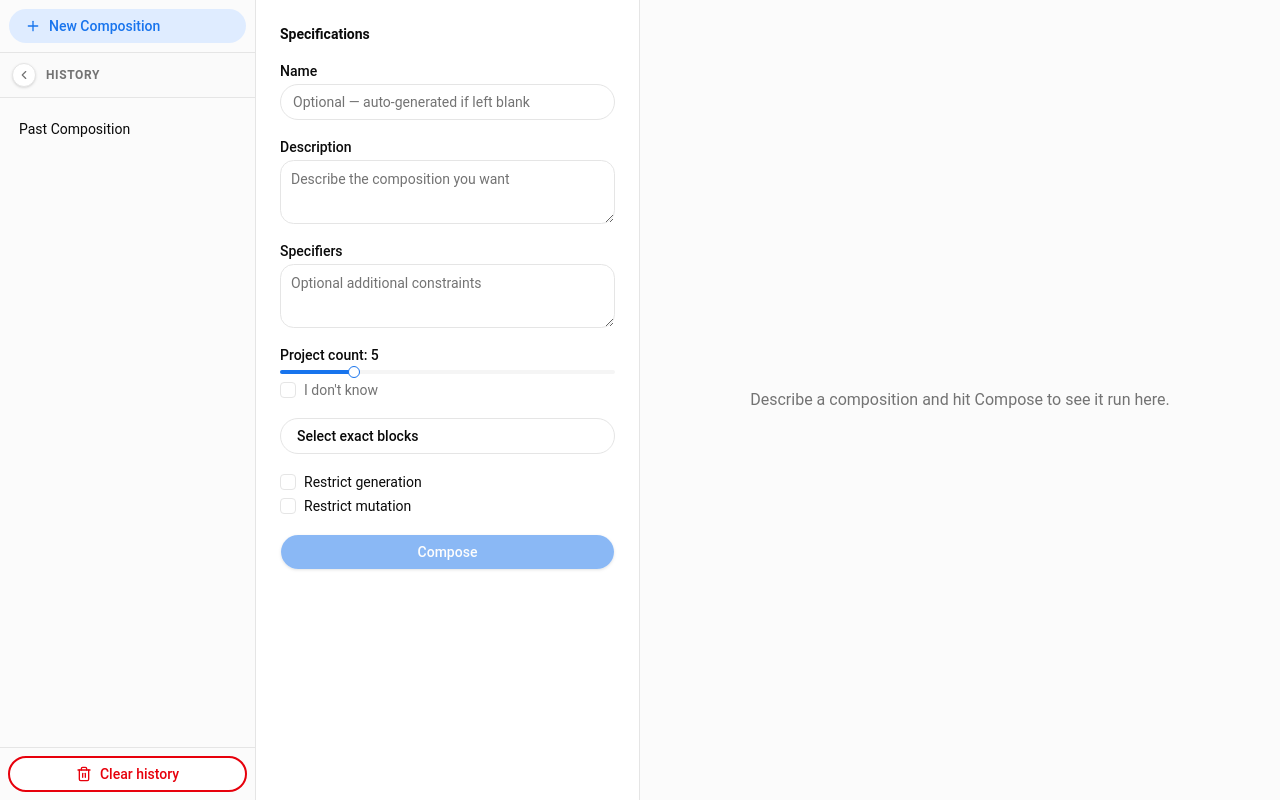
deleting the currently-viewed history entry returns the result panel to the idle/fresh view
The image size is (1280, 800).
Click the button "Past Composition" at {"x": 96, "y": 129}, box [19,119,174,139]
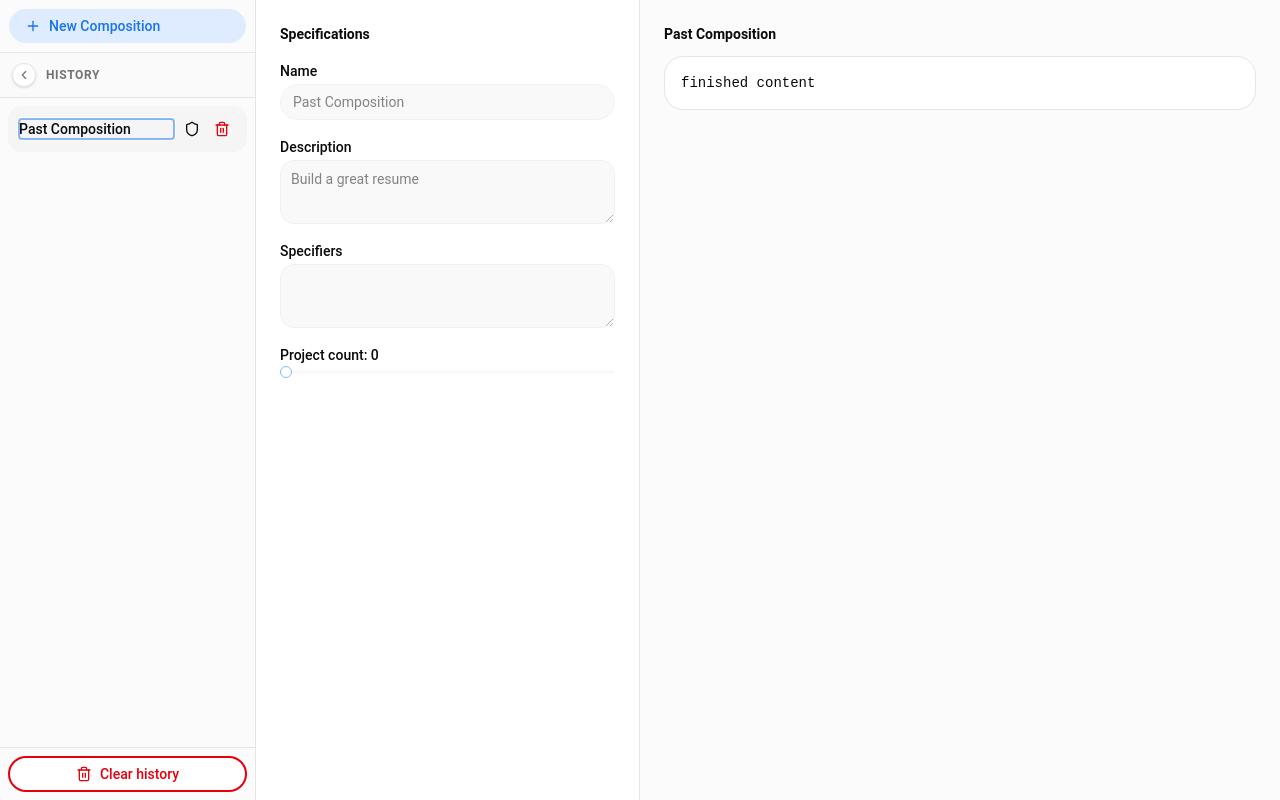
Expected: the element with test id "result-panel-history" is shown, [640,0,1279,134]
Click the button named "Delete" at {"x": 222, "y": 129}, box [208,115,236,143]
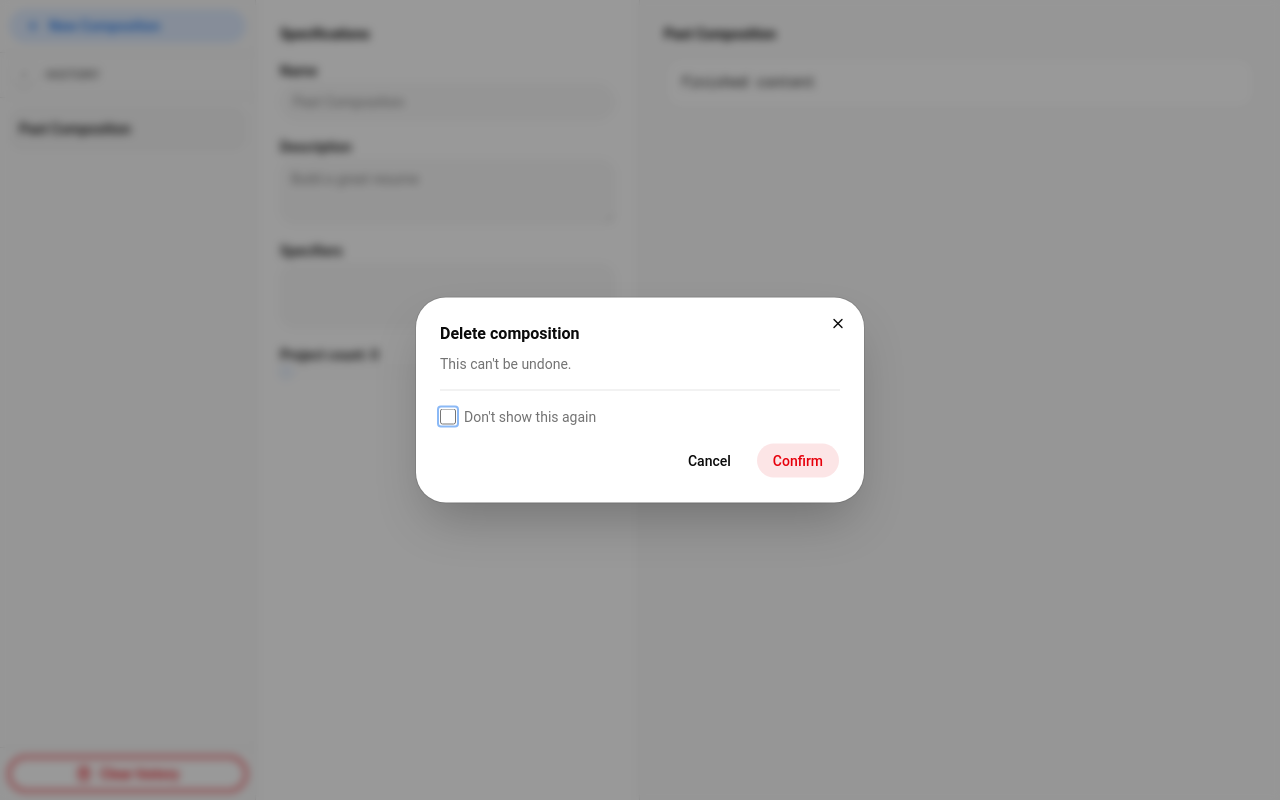
Click the checkbox at {"x": 448, "y": 416}, box [440,408,456,424]
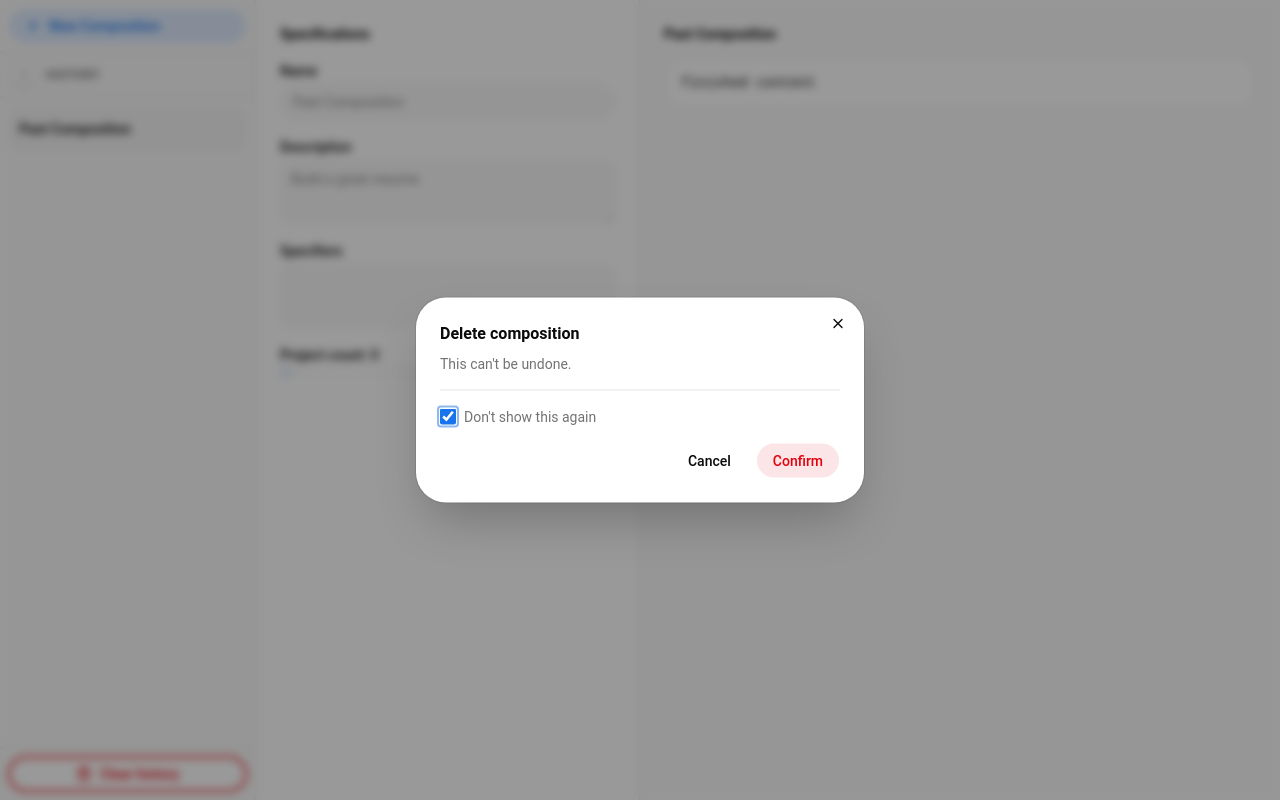
Click the button "Confirm" at {"x": 798, "y": 460}, box [756,442,840,478]
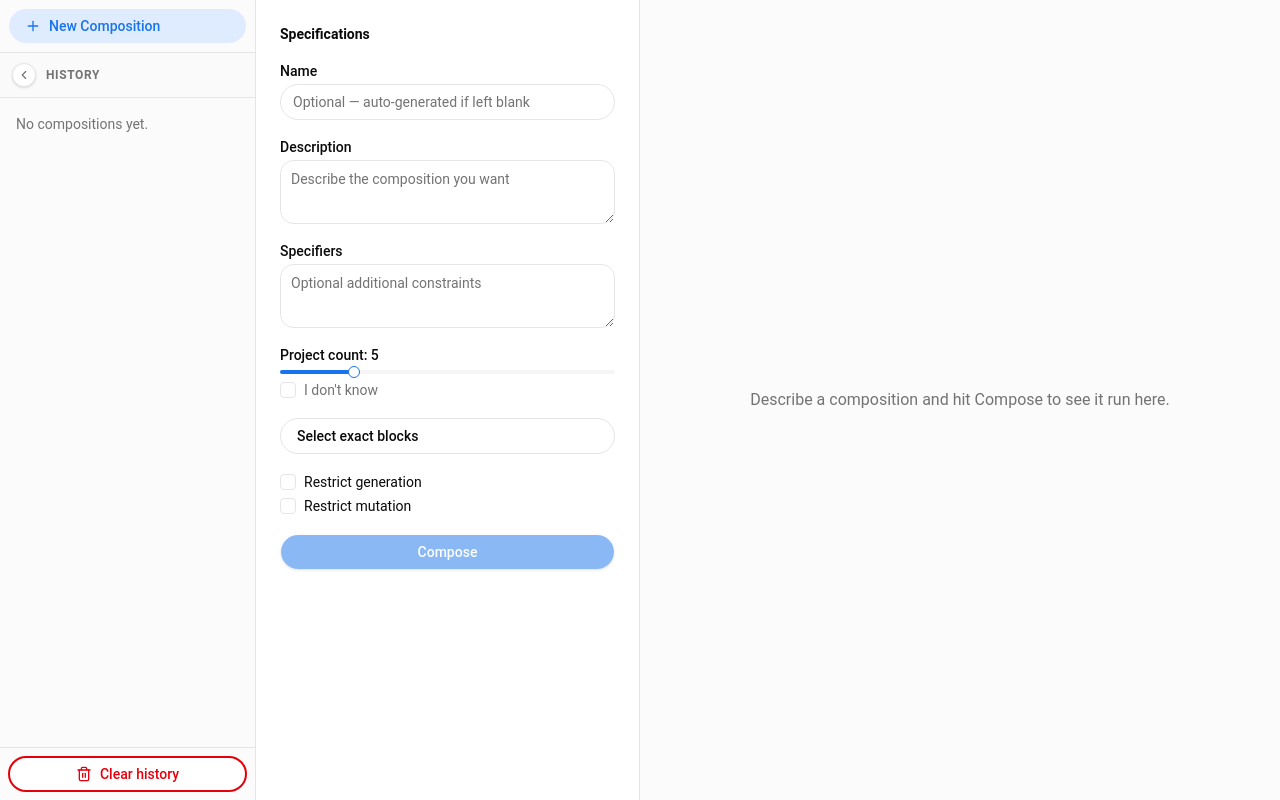
Expected: the element with test id "result-panel-idle" is shown, [750,390,1170,409]
